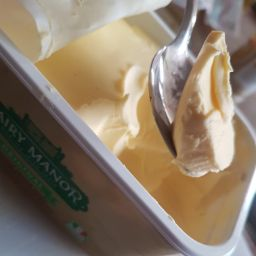Butter: (40, 6, 256, 241), (112, 12, 253, 217)
